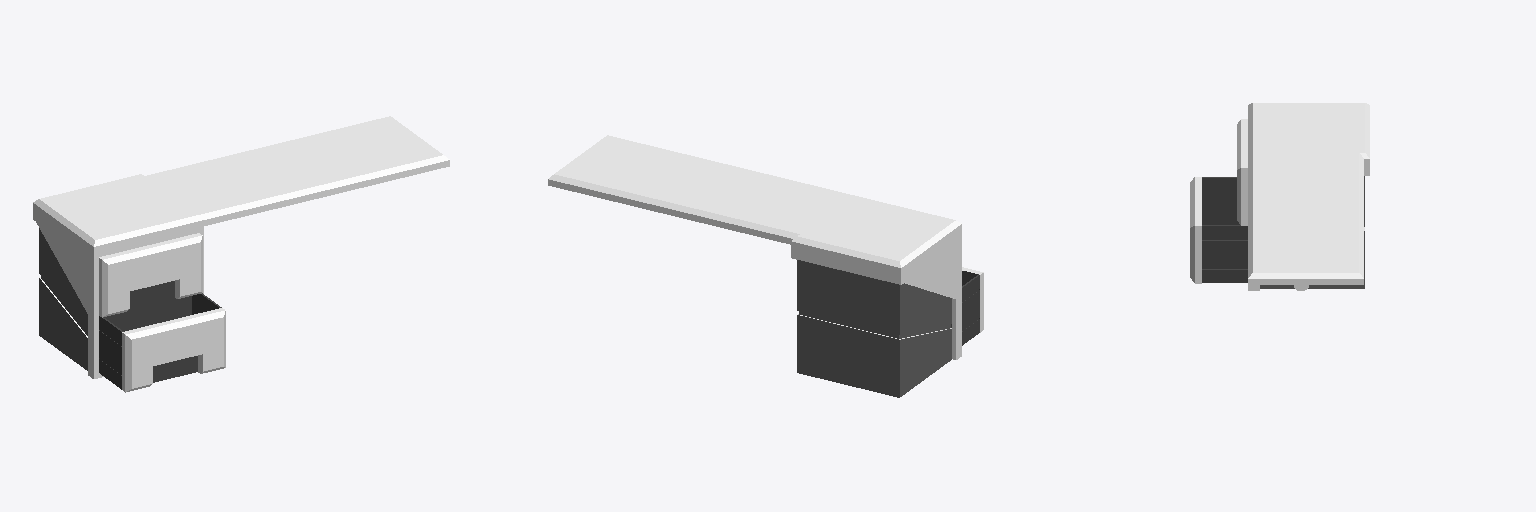
Rendered from Desk.obj.
3 views of the same model, side by side, from view 1: azimuth 30°, elevation 25°; view 2: azimuth 150°, elevation 25°; view 3: azimuth 270°, elevation 25° (orthographic).
Parts seen in each view (by area): view 1: Mesh1 Group2 Group1 Model, Mesh13 Drawer2 Model, Mesh12 Drawer1 Model; view 2: Mesh1 Group2 Group1 Model, Mesh13 Drawer2 Model; view 3: Mesh1 Group2 Group1 Model, Mesh13 Drawer2 Model, Mesh12 Drawer1 Model.
Part boxes in pixels (left/top/right/bottom): Mesh1 Group2 Group1 Model: left=33, top=116, right=449, bottom=378; Mesh13 Drawer2 Model: left=99, top=293, right=225, bottom=392; Mesh12 Drawer1 Model: left=99, top=233, right=202, bottom=317; Mesh1 Group2 Group1 Model: left=548, top=135, right=961, bottom=397; Mesh13 Drawer2 Model: left=962, top=267, right=983, bottom=345; Mesh1 Group2 Group1 Model: left=1248, top=103, right=1369, bottom=290; Mesh13 Drawer2 Model: left=1190, top=177, right=1247, bottom=283; Mesh12 Drawer1 Model: left=1237, top=119, right=1247, bottom=225.
Size of the model in its own units: 1775 by 650 by 775.